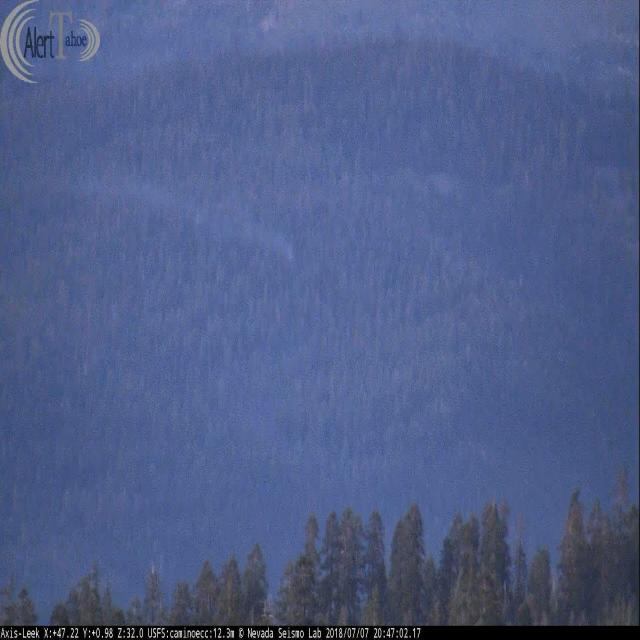smoke: (256, 224, 294, 258)
